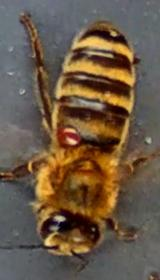varroa_mite: (50, 118, 86, 153)
